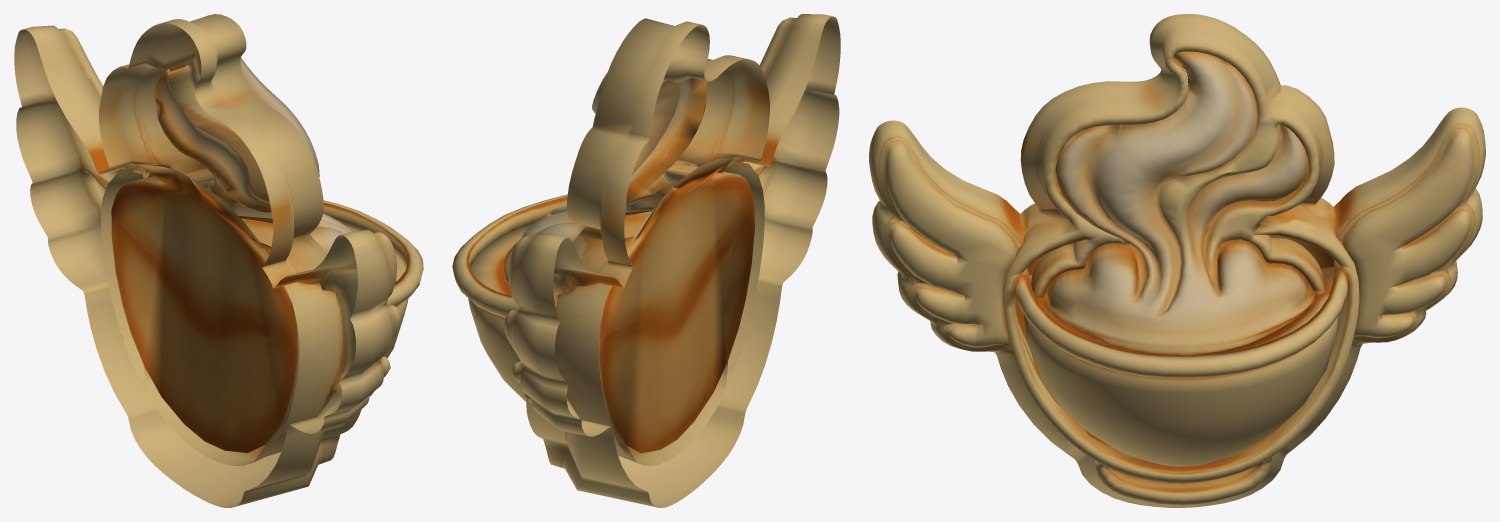
Rendered from perfect-warm-bowl-medal.glb.
3 renders of one model, left to right at view 1: azimuth 30°, elevation 25°; view 2: azimuth 150°, elevation 25°; view 3: azimuth 270°, elevation 25°, orthographic. The views are drawn at different scales.
Parts seen in each view (by area): view 1: tripo_node_1ca08611-89ac-4b0e-a438-0e9daebf4deb; view 2: tripo_node_1ca08611-89ac-4b0e-a438-0e9daebf4deb; view 3: tripo_node_1ca08611-89ac-4b0e-a438-0e9daebf4deb.
Part boxes in pixels (x1=…): tripo_node_1ca08611-89ac-4b0e-a438-0e9daebf4deb: x1=14, y1=14, x2=423, y2=507; tripo_node_1ca08611-89ac-4b0e-a438-0e9daebf4deb: x1=452, y1=14, x2=840, y2=507; tripo_node_1ca08611-89ac-4b0e-a438-0e9daebf4deb: x1=869, y1=14, x2=1485, y2=507.
Bounding box in the file's own units: 0.4245 × 0.8042 × 0.9996.
1 material, 1 textured.
